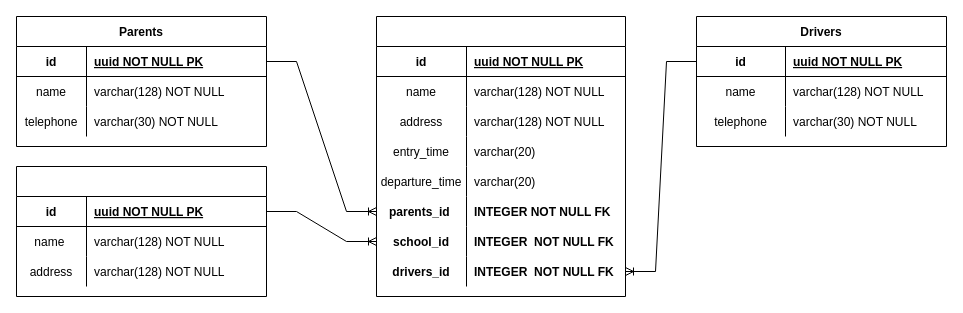
Image size: 963x313. Some labels were removed from this diagram. The shapes that lost their labels are listed below. From the top down, each one's box as (x1, y1, x2, y2) in pixels, then its label:
(376, 16, 626, 296): Students
(16, 166, 266, 296): School
